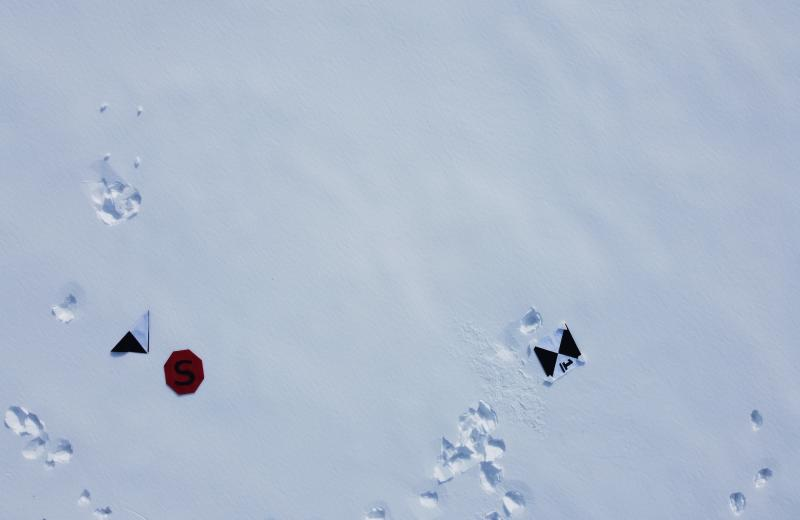Octagon: (165, 348, 205, 397)
